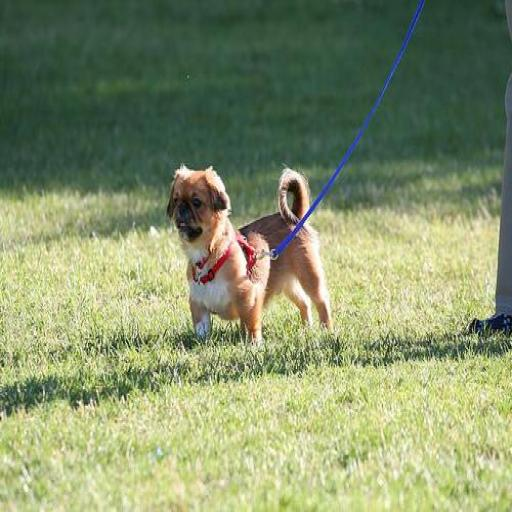dog_face: (165, 165, 230, 253)
